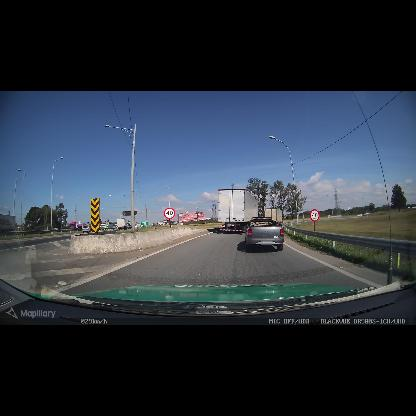O-MP: (91, 198, 100, 232)
R-19: (164, 207, 175, 219), (310, 209, 320, 222)
